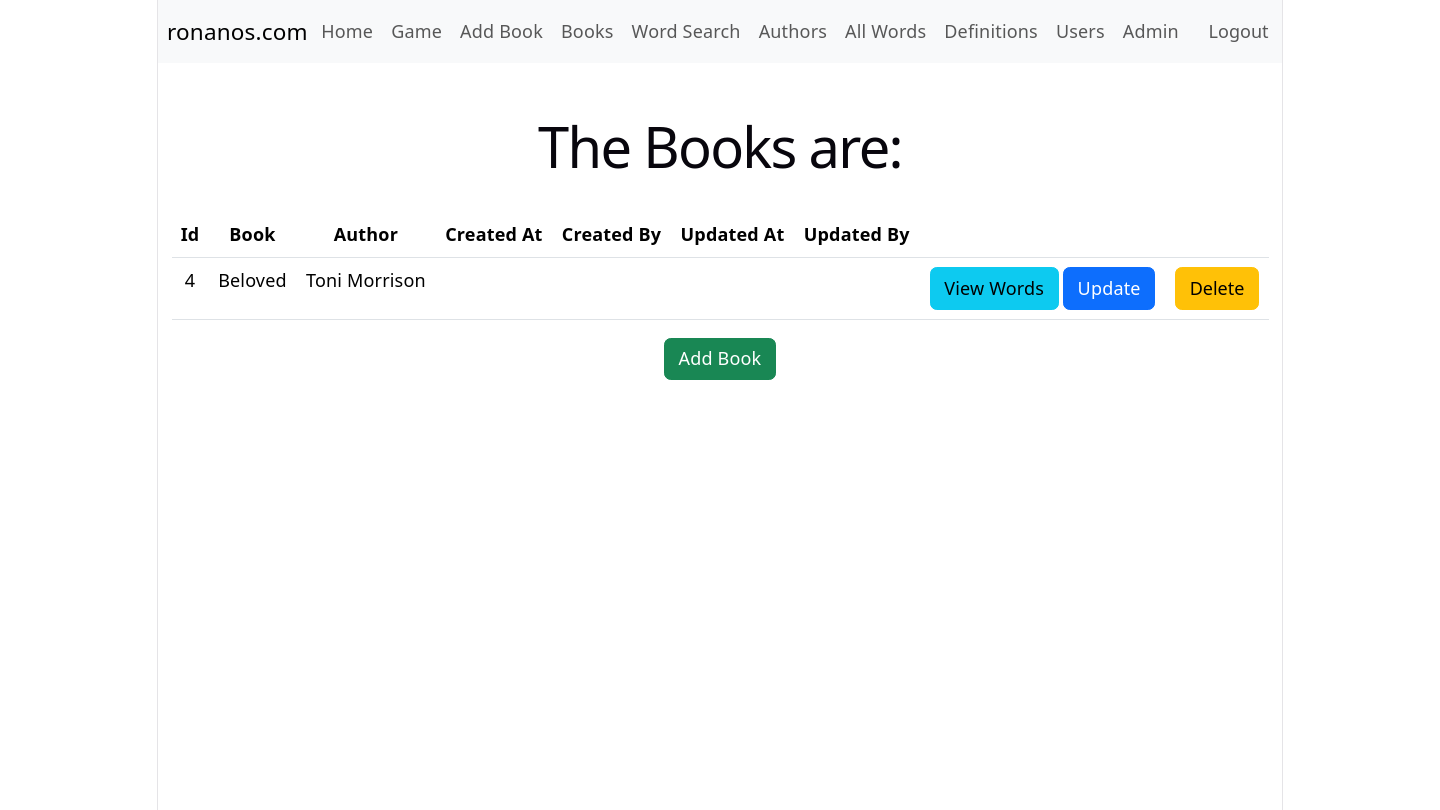
Scenario: ListBooks › loads books and deletes after backend success
Expected: the text "Beloved" is shown, [209,258,296,319]
Click the button "Delete".
click(1217, 288)  # box [1175,267,1259,310]
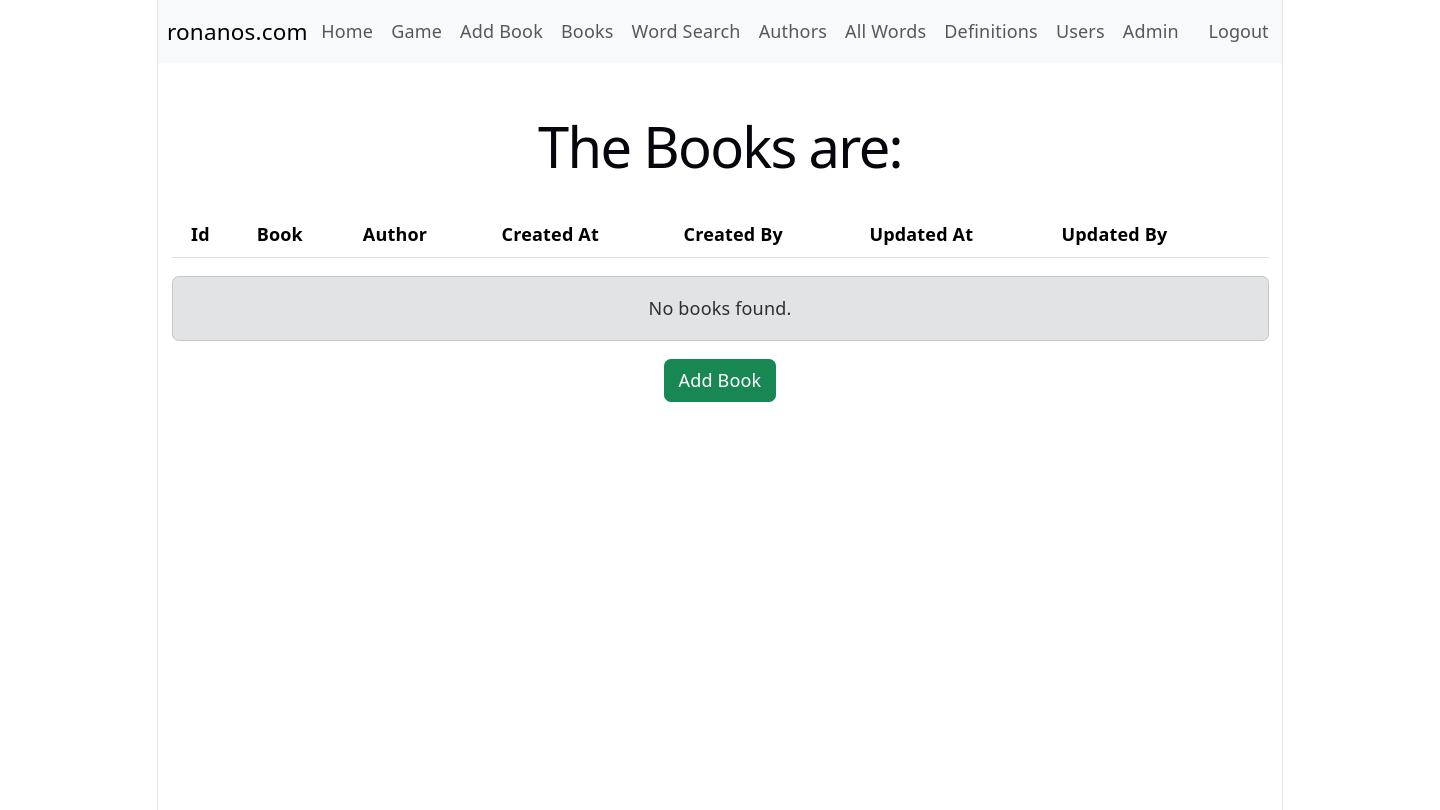
Result: the text "Beloved" is gone
